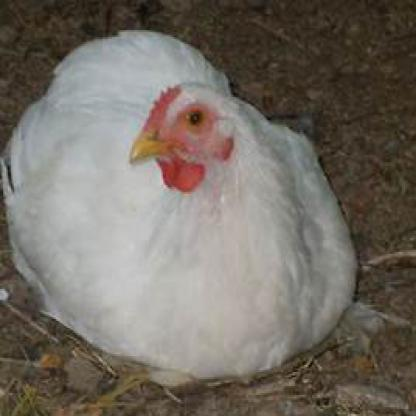chicken: (1, 26, 362, 386)
